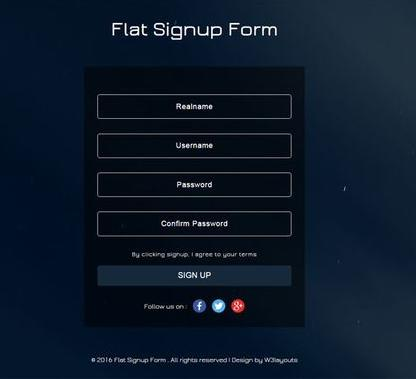button: (97, 264, 294, 289)
field: (95, 92, 293, 121), (95, 132, 293, 160), (95, 171, 296, 198), (95, 211, 295, 238)
